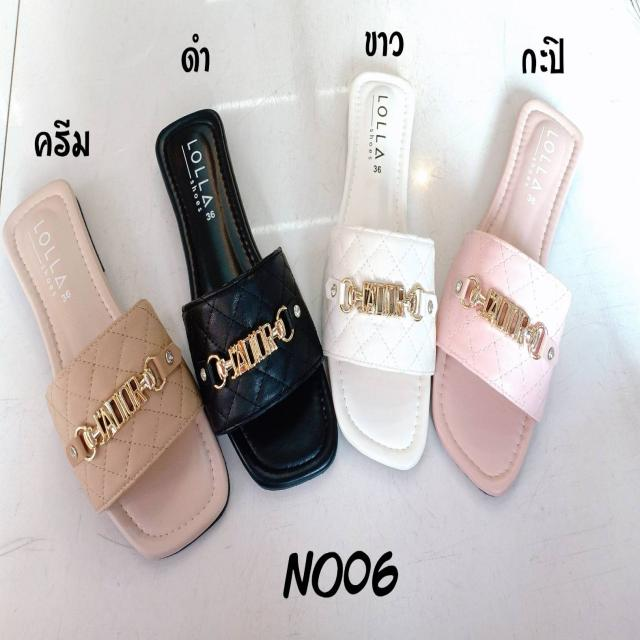black: (156, 111, 338, 486)
cream: (12, 179, 228, 563)
kapi: (439, 102, 584, 499)
white: (331, 73, 438, 470)
